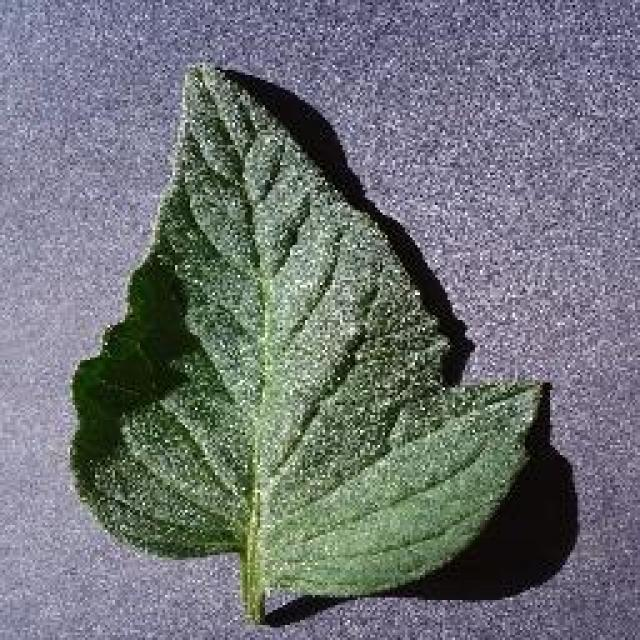Healthy: (52, 40, 548, 640)
